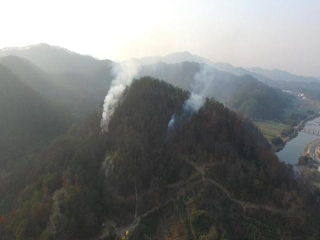smoke: (167, 65, 214, 142), (99, 55, 143, 137)
